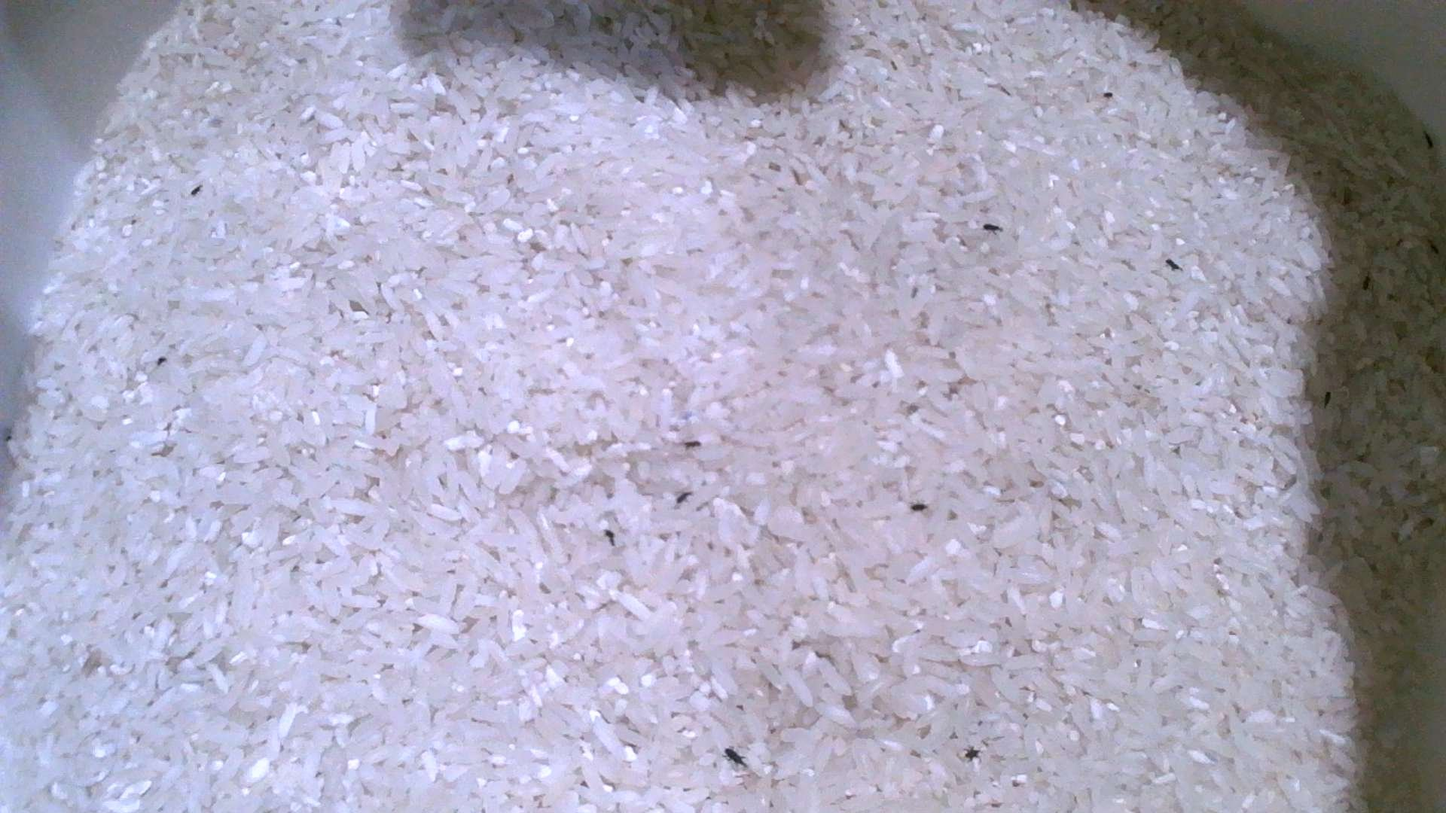Sitophilus-Oryzae: (724, 748, 746, 767), (675, 491, 691, 504), (965, 747, 981, 760), (983, 223, 1002, 231), (911, 503, 927, 511)
